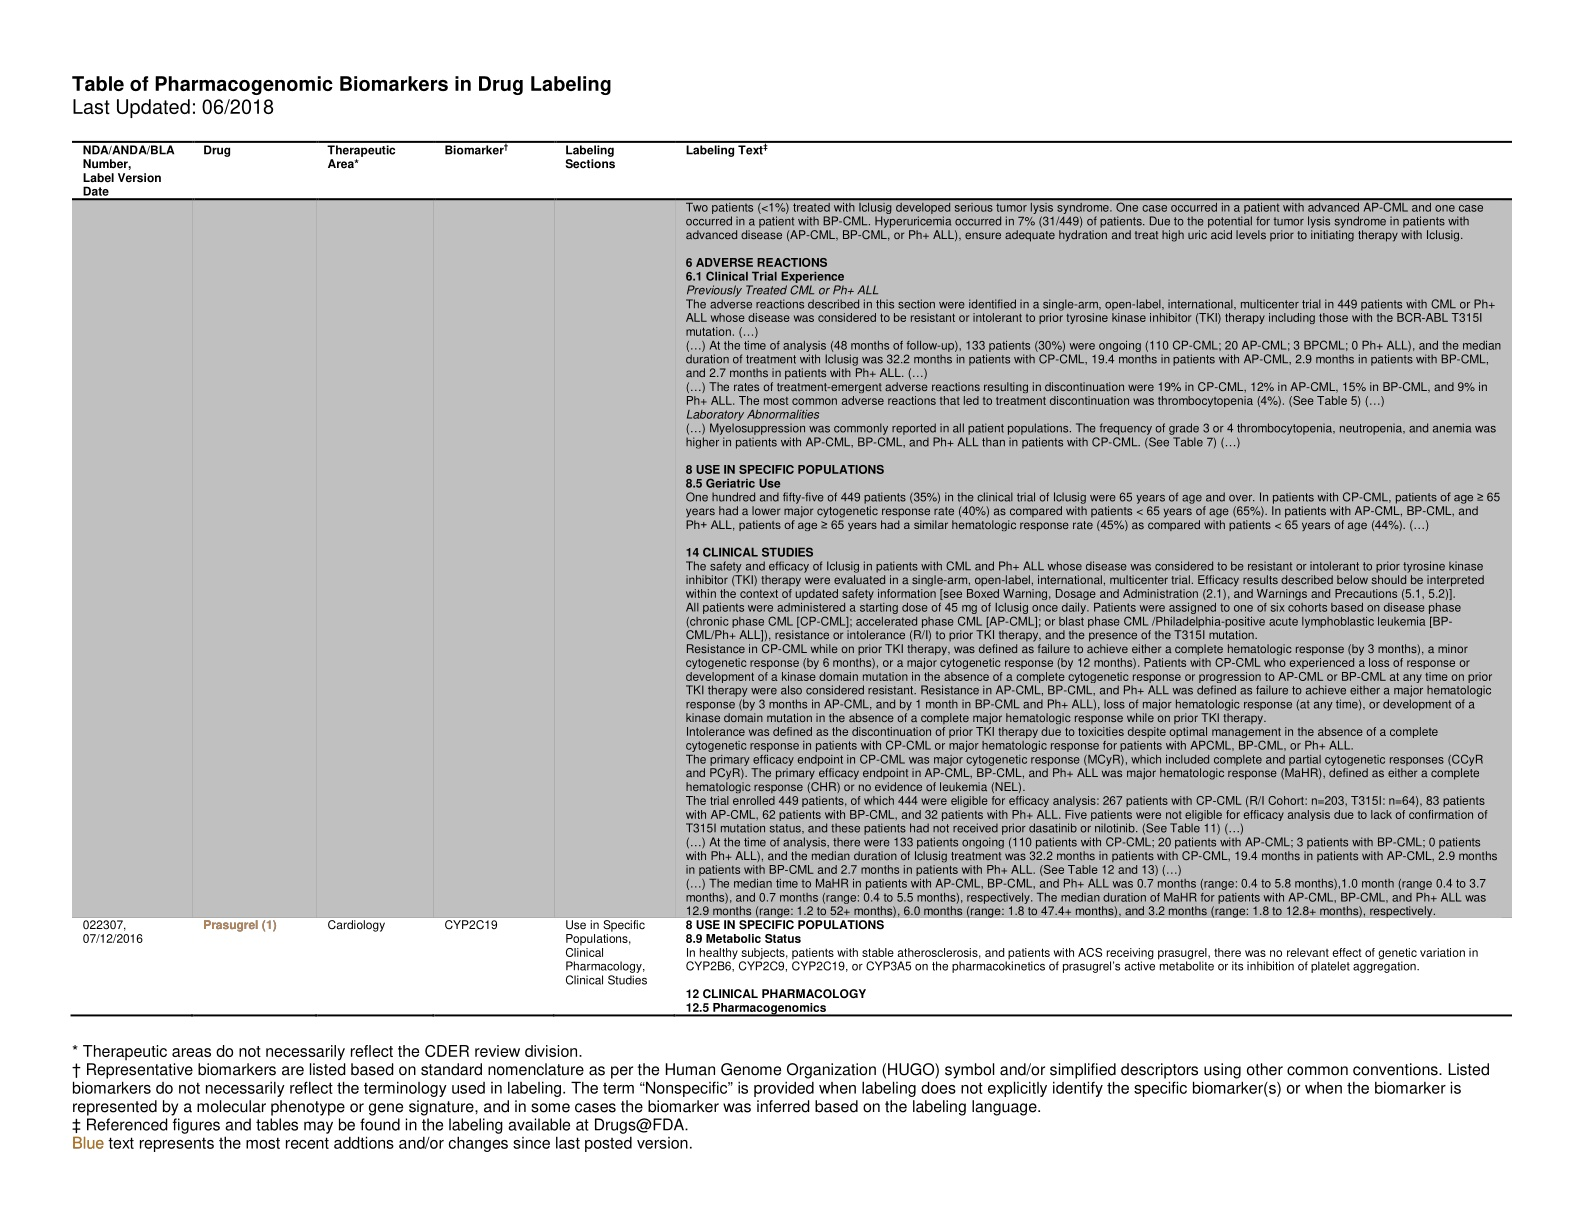partial_lined: (69, 139, 1512, 1017)
